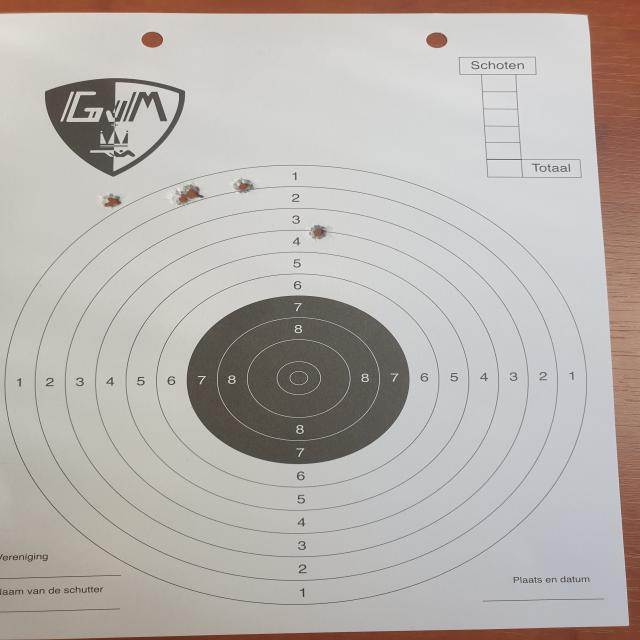0: (94, 192, 127, 209)
1: (182, 182, 204, 200), (171, 190, 192, 206)
2: (230, 178, 254, 195)
4: (308, 223, 330, 239)
Target: (6, 165, 596, 605)
black_contour: (185, 294, 410, 464)
